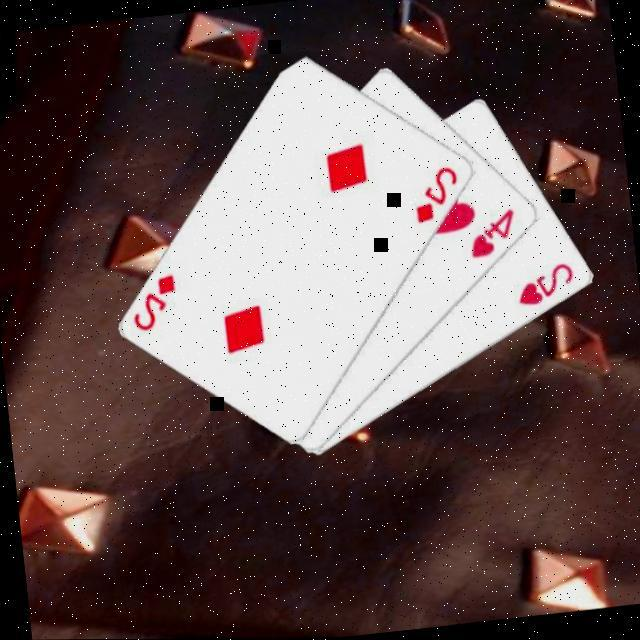2D: (410, 163, 468, 228), (128, 271, 185, 336)
2H: (514, 260, 582, 312)
4H: (466, 205, 524, 262)
